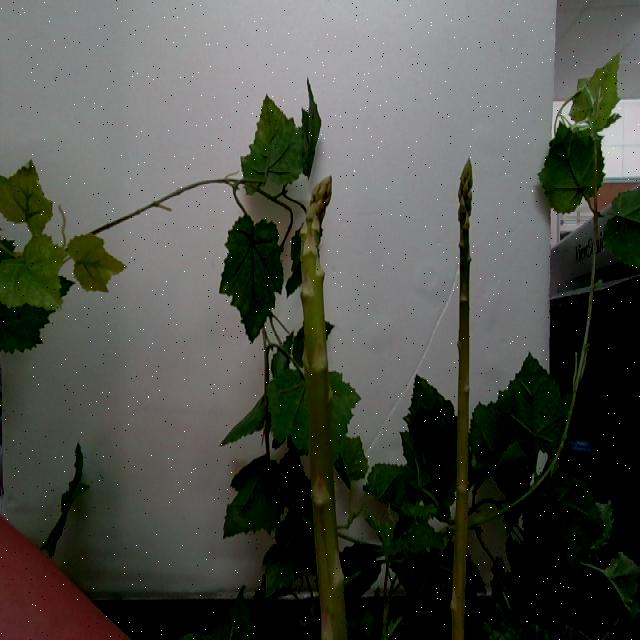aspargus: (298, 178, 350, 640), (453, 161, 475, 640)
